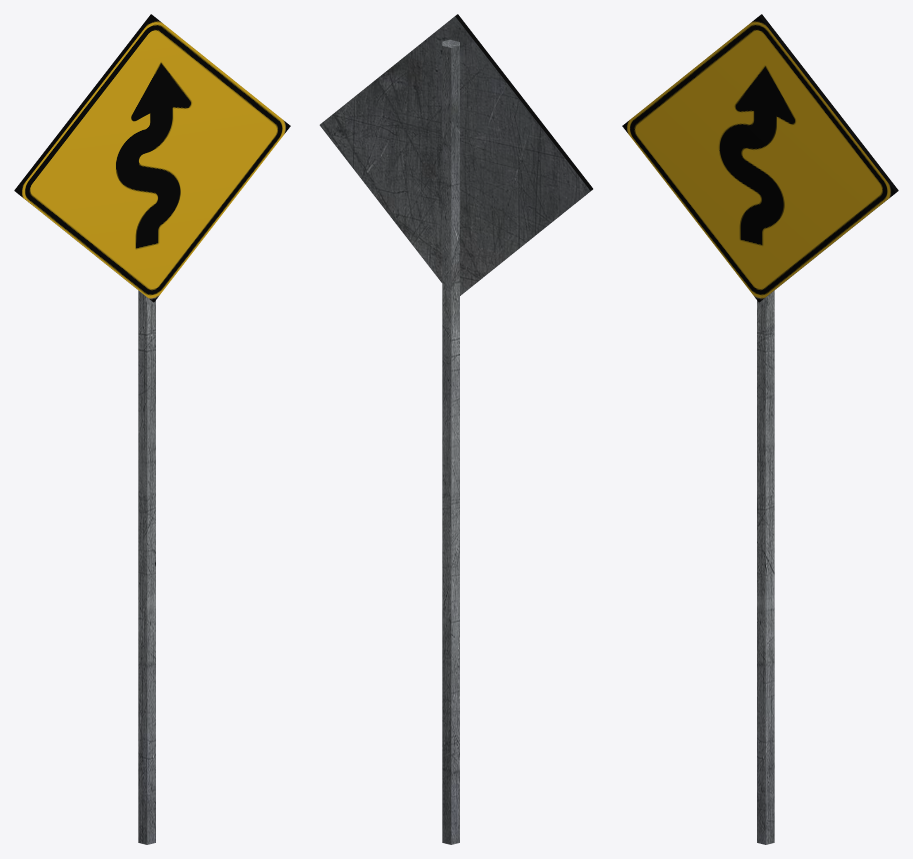
The model's file is RoadSign_Curvy01.fbx.
3 views of the same model, side by side, from view 1: azimuth 30°, elevation 25°; view 2: azimuth 150°, elevation 25°; view 3: azimuth 330°, elevation 25° (orthographic).
Visible parts, largest first — view 1: RoadSign; view 2: RoadSign; view 3: RoadSign.
Boxes of the visible parts, bbox=[...] form: RoadSign: bbox=[14, 14, 290, 844]; RoadSign: bbox=[319, 14, 592, 844]; RoadSign: bbox=[622, 14, 898, 844].
Size of the model in its own units: 15.44 by 44.69 by 1.21.
